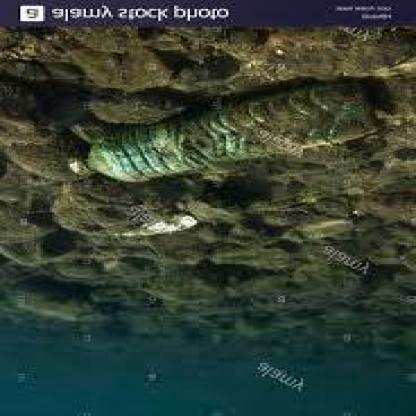pbottle: (55, 71, 376, 187)
